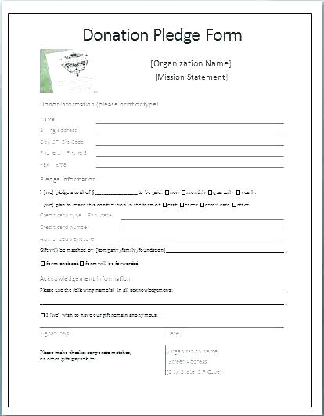checkbox: (178, 201, 185, 209), (38, 260, 46, 267), (199, 200, 205, 209), (231, 200, 237, 209), (161, 200, 167, 208), (163, 188, 169, 195), (180, 188, 186, 195), (206, 189, 213, 195), (234, 188, 240, 195), (78, 260, 84, 267), (39, 312, 45, 318)
textline: (38, 297, 285, 307), (91, 158, 286, 170), (37, 320, 282, 329), (93, 138, 285, 149), (94, 114, 285, 125), (91, 149, 285, 159), (94, 126, 285, 136), (117, 234, 285, 245), (119, 223, 285, 233), (118, 213, 284, 222), (38, 321, 166, 330), (174, 285, 285, 295), (164, 246, 286, 255), (166, 321, 281, 329), (93, 189, 138, 196)
